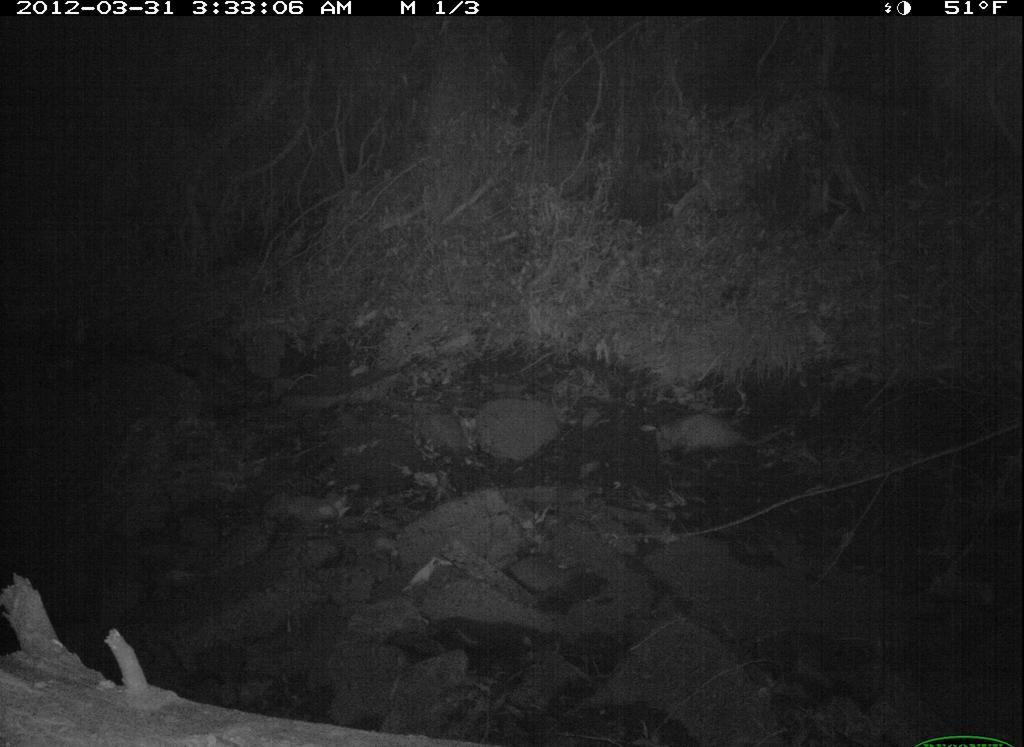opossum: (647, 404, 792, 473)
